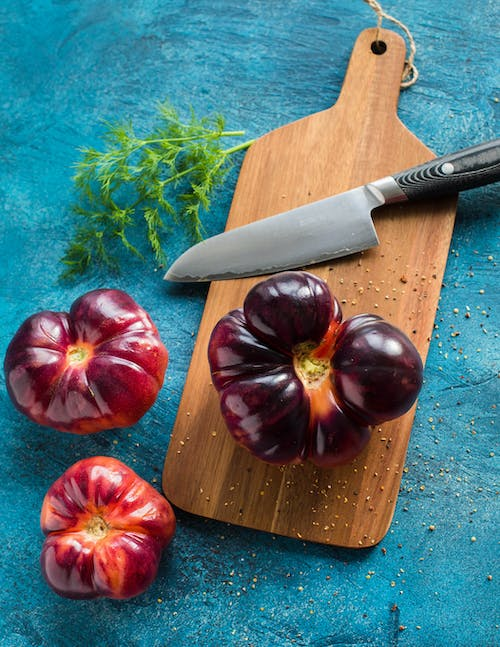knife: (158, 137, 500, 285)
